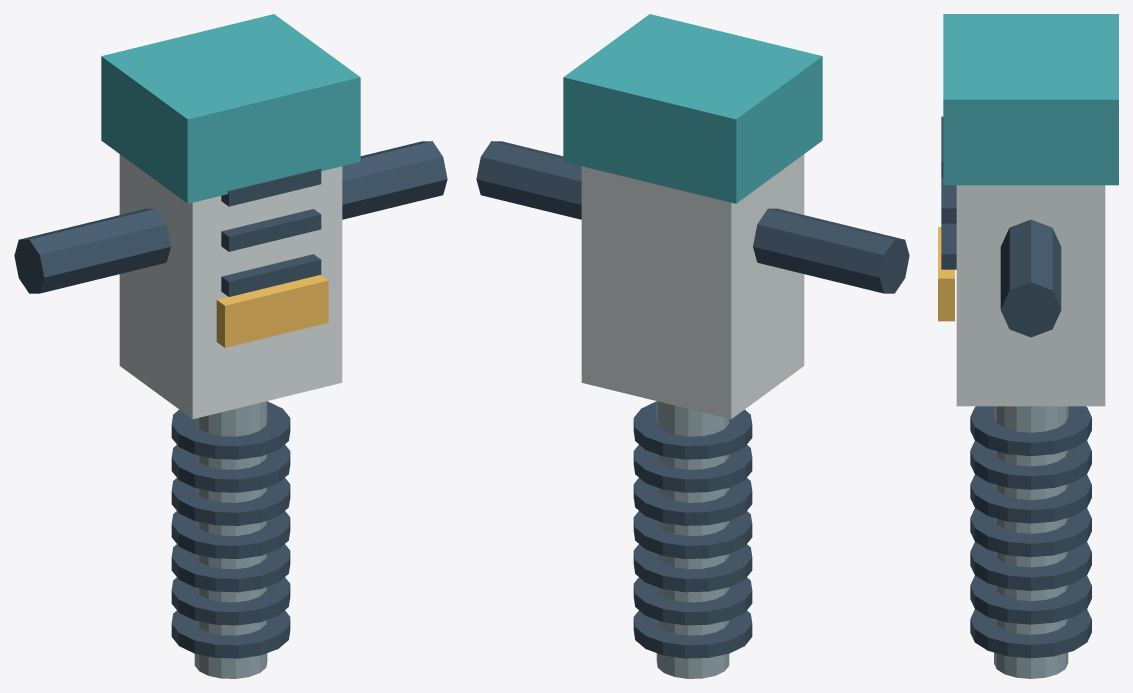
The model's file is orbital-field-station-portable-core-drill__157.glb.
3 renders of one model, left to right at view 1: azimuth 30°, elevation 25°; view 2: azimuth 150°, elevation 25°; view 3: azimuth 270°, elevation 25°, orthographic.
Parts seen in each view (by area): view 1: dark, accent, shell, metal, warning; view 2: shell, dark, accent, metal; view 3: dark, accent, shell, metal, warning.
Part boxes in pixels (bbox=[...]): dark: bbox=[14, 141, 447, 658]; accent: bbox=[101, 14, 360, 203]; shell: bbox=[119, 154, 342, 419]; metal: bbox=[194, 401, 267, 678]; warning: bbox=[216, 275, 328, 347]; shell: bbox=[581, 154, 804, 419]; dark: bbox=[476, 141, 909, 658]; accent: bbox=[563, 14, 822, 203]; metal: bbox=[656, 401, 729, 678]; dark: bbox=[941, 116, 1091, 658]; accent: bbox=[943, 14, 1118, 185]; shell: bbox=[956, 185, 1105, 406]; metal: bbox=[994, 406, 1068, 678]; warning: bbox=[938, 227, 954, 321].
Size of the model in its own units: 0.7 by 0.99 by 0.2675.
